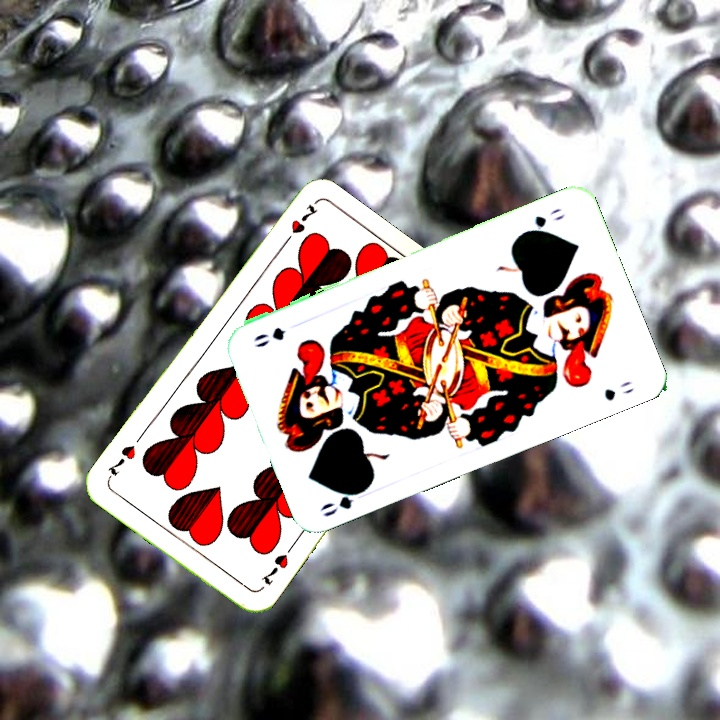GO: (316, 482, 371, 520), (518, 204, 569, 237)
H7: (278, 200, 321, 250), (257, 549, 291, 588)
